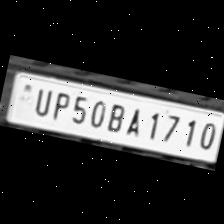0: (192, 116, 218, 150), (84, 94, 108, 128)
1: (176, 111, 200, 146), (140, 106, 163, 140)
5: (66, 89, 90, 124)
7: (156, 108, 182, 142)
A: (122, 101, 146, 135)
B: (103, 98, 128, 132)
P: (46, 86, 70, 120)
U: (28, 82, 54, 116)
